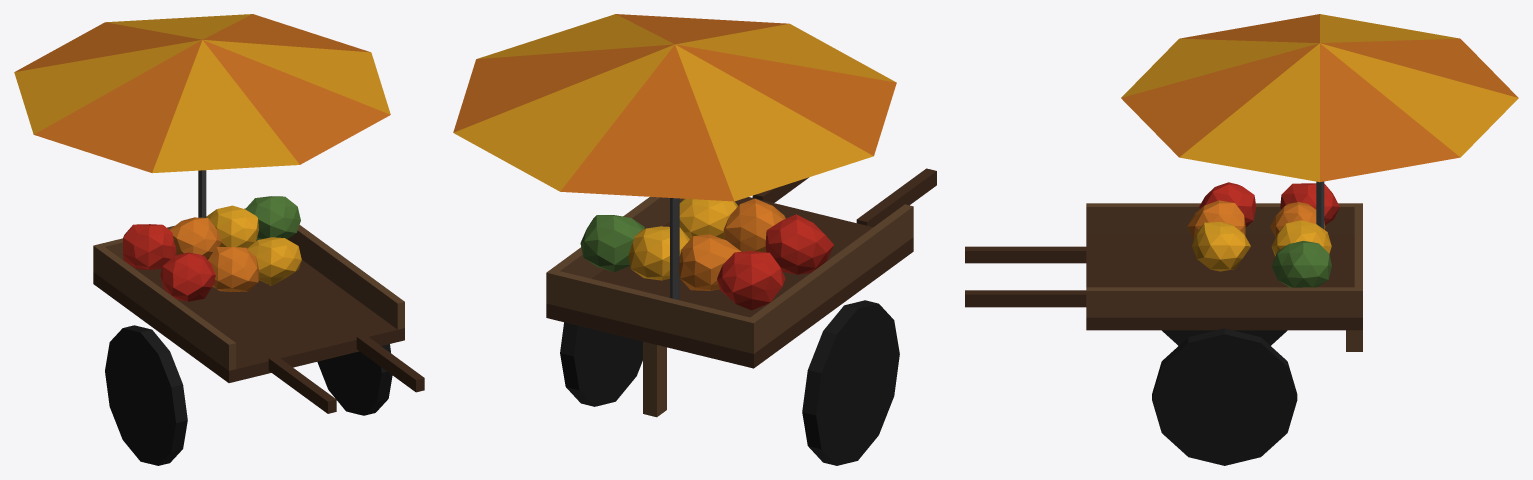
The model's file is vendor_cart.glb.
3 renders of one model, left to right at view 1: azimuth 30°, elevation 25°; view 2: azimuth 150°, elevation 25°; view 3: azimuth 270°, elevation 25°, orthographic. The views are drawn at different scales.
Parts seen in each view (by area): view 1: vendor_cart; view 2: vendor_cart; view 3: vendor_cart.
Part boxes in pixels (bbox=[...]): vendor_cart: bbox=[14, 14, 424, 465]; vendor_cart: bbox=[453, 14, 936, 465]; vendor_cart: bbox=[965, 14, 1518, 465].
Size of the model in its own units: 2.3 by 2.35 by 3.2.
